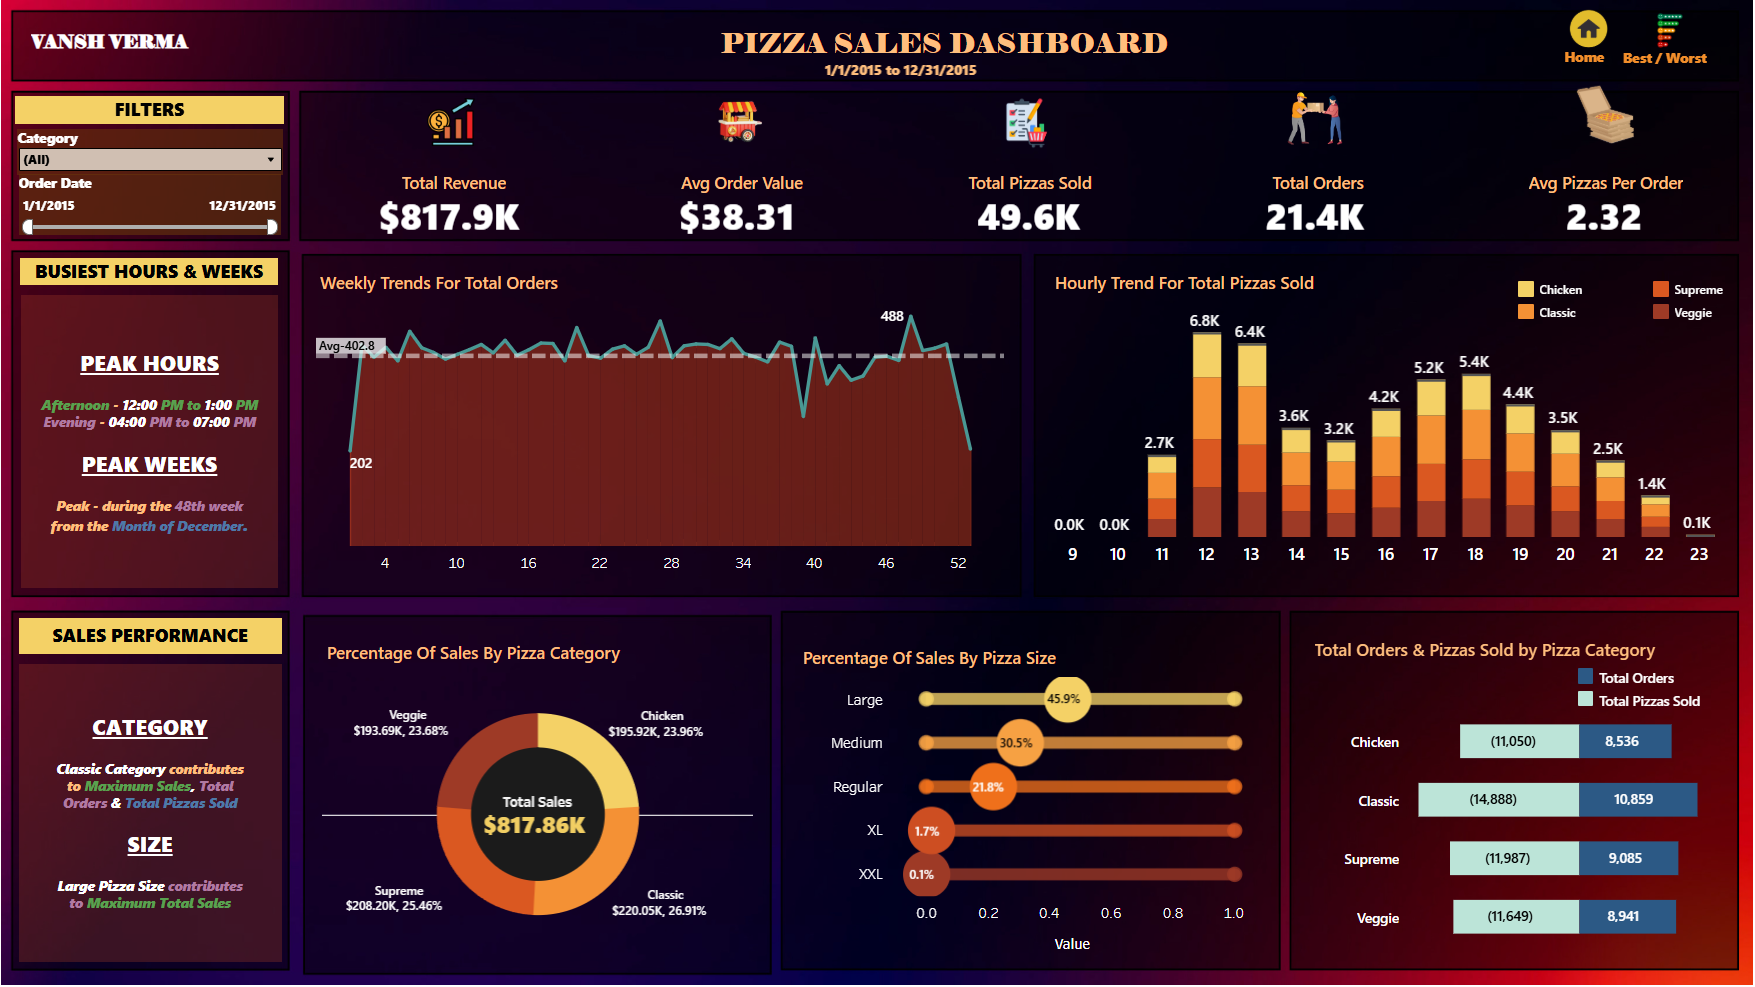

The dashboard page shown, as its layout file describes it:
{"tool":"tableau","page":{"name":"HOME","canvas":[1600,900],"ordinal":0},"visuals":[{"type":"image","param":"Image/background grad pptx-3.jpg","box":[8,8,1584,884]},{"type":"dashboard-object","box":[1388,15,70,50]},{"type":"dashboard-object","box":[1464,23,64,33]},{"type":"text","box":[39,30,286,40]},{"type":"text","box":[652,30,427,42]},{"type":"worksheet","title":"Date Range","mark":"Automatic","box":[618,42,410,64]},{"type":"text","box":[1402,47,100,30]},{"type":"text","box":[1454,48,100,30]},{"type":"image","param":"Image/Your paragraph text (1).png","box":[863,59,122,110]},{"type":"image","param":"Image/Your paragraph text (3).png","box":[1381,59,121,129]},{"type":"image","param":"Image/Your paragraph text (2).png","box":[1118,70,125,85]},{"type":"image","param":"Image/Your paragraph text.png","box":[597,90,141,68]},{"type":"text","box":[25,97,239,25]},{"type":"image","param":"Image/8070604.png","box":[391,99,46,43]},{"type":"filter","title":"Hourly Trend For Total Pizzas Sold","param":"[federated.06sdgrd0uq57jm181ji7m0ucxezz].[none:pizza_category:nk]","box":[27,127,236,41]},{"type":"worksheet","title":"KPI Banner","mark":"Automatic","box":[287,144,1280,82]},{"type":"filter","title":"Weekly Trends For Total Orders","param":"[federated.06sdgrd0uq57jm181ji7m0ucxezz].[none:order_date:qk]","box":[28,167,233,54]},{"type":"text","box":[29,241,230,24]},{"type":"worksheet","title":"Weekly Trends For Total Orders","mark":"Area","rows":["Calculation_413486743083237377","Calculation_413486743083237377"],"cols":["order_date"],"box":[292,248,612,283]},{"type":"worksheet","title":"Hourly Trend For Total Pizzas Sold","mark":"Bar","rows":["Calculation_413486743083872259","Calculation_413486743083872259"],"cols":["order_time"],"box":[945,248,597,284]},{"type":"text","box":[30,274,229,261]},{"type":"text","box":[28,561,234,32]},{"type":"worksheet","title":"Percentage Of Sales By Pizza Category","mark":"Pie","rows":["Calculation_413486743115321350","Calculation_413486743115321350"],"box":[298,577,383,284]},{"type":"text","box":[1180,578,315,22]},{"type":"worksheet","title":"Percentage Of Sales By Pizza Size","mark":"Line","rows":["pizza_size"],"box":[721,581,407,284]},{"type":"text","box":[28,602,234,265]},{"type":"legend","title":"Total Orders & Pizzas Sold by Pizza Category","param":"[federated.06sdgrd0uq57jm181ji7m0ucxezz].[:Measure Names]","box":[1411,603,130,41]},{"type":"worksheet","title":"Total Orders & Pizzas Sold by Pizza Category","mark":"Automatic","rows":["pizza_category"],"box":[1180,645,352,208]}]}

Visuals, with their boxes in screenshot pixels (x1, y1, x2, y2), scaled from the page's 1600x900 canvas onto the 1755x987 screenshot:
image: bbox=[9, 9, 1746, 978]
dashboard-object: bbox=[1522, 16, 1599, 71]
dashboard-object: bbox=[1606, 25, 1676, 61]
text: bbox=[43, 33, 356, 77]
text: bbox=[715, 33, 1184, 79]
"Date Range" worksheet: bbox=[678, 46, 1128, 116]
text: bbox=[1538, 52, 1648, 84]
text: bbox=[1595, 53, 1705, 86]
image: bbox=[947, 65, 1080, 185]
image: bbox=[1515, 65, 1648, 206]
image: bbox=[1226, 77, 1363, 170]
image: bbox=[655, 99, 809, 173]
text: bbox=[27, 106, 290, 134]
image: bbox=[429, 109, 479, 156]
"Hourly Trend For Total Pizzas Sold" filter: bbox=[30, 139, 288, 184]
"KPI Banner" worksheet: bbox=[315, 158, 1719, 248]
"Weekly Trends For Total Orders" filter: bbox=[31, 183, 286, 242]
text: bbox=[32, 264, 284, 291]
"Weekly Trends For Total Orders" worksheet (Area marks): bbox=[320, 272, 992, 582]
"Hourly Trend For Total Pizzas Sold" worksheet (Bar marks): bbox=[1037, 272, 1691, 583]
text: bbox=[33, 300, 284, 587]
text: bbox=[31, 615, 287, 650]
"Percentage Of Sales By Pizza Category" worksheet (Pie marks): bbox=[327, 633, 747, 944]
text: bbox=[1294, 634, 1640, 658]
"Percentage Of Sales By Pizza Size" worksheet (Line marks): bbox=[791, 637, 1237, 949]
text: bbox=[31, 660, 287, 951]
"Total Orders & Pizzas Sold by Pizza Category" legend: bbox=[1548, 661, 1690, 706]
"Total Orders & Pizzas Sold by Pizza Category" worksheet: bbox=[1294, 707, 1680, 935]
